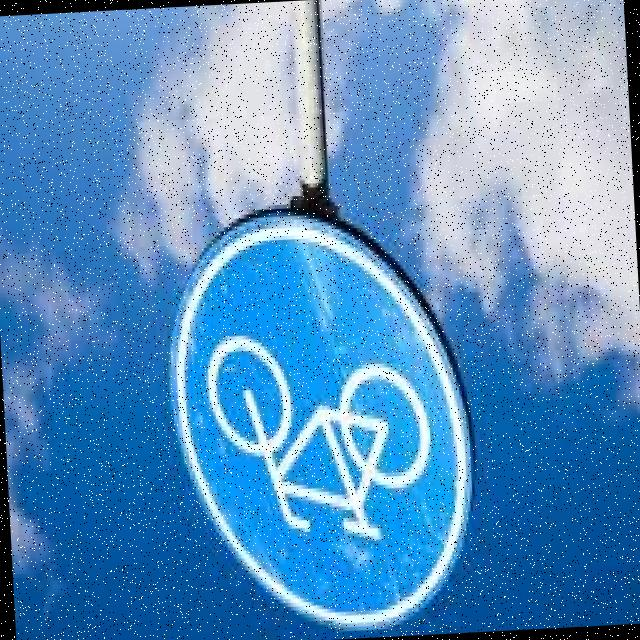bicycle: (153, 195, 490, 640)
